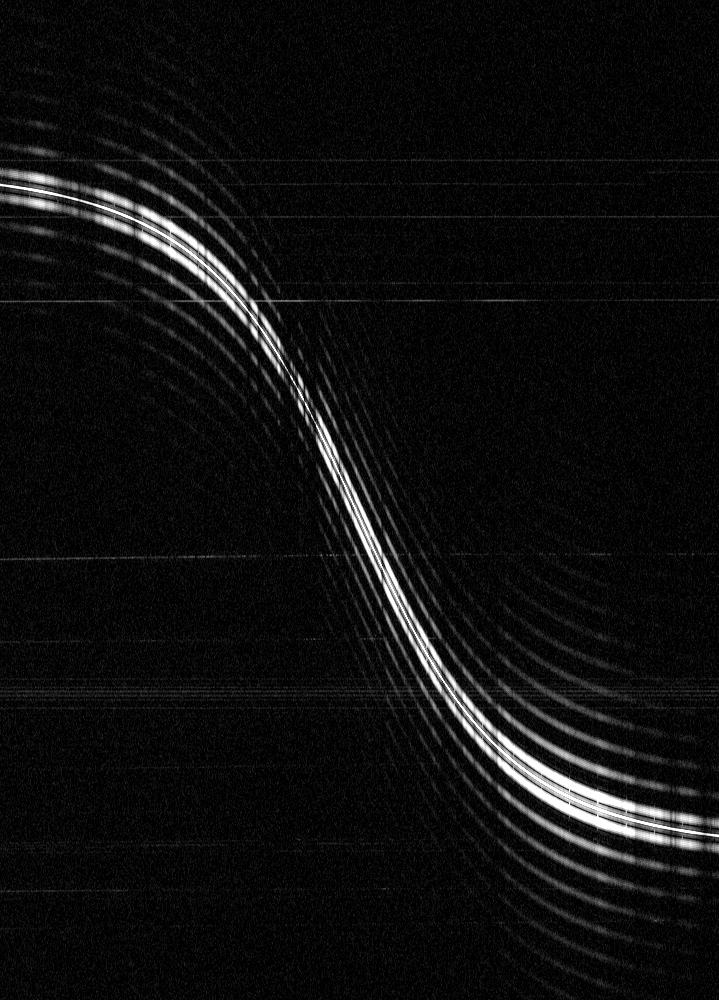signal: (0, 0, 718, 999)
